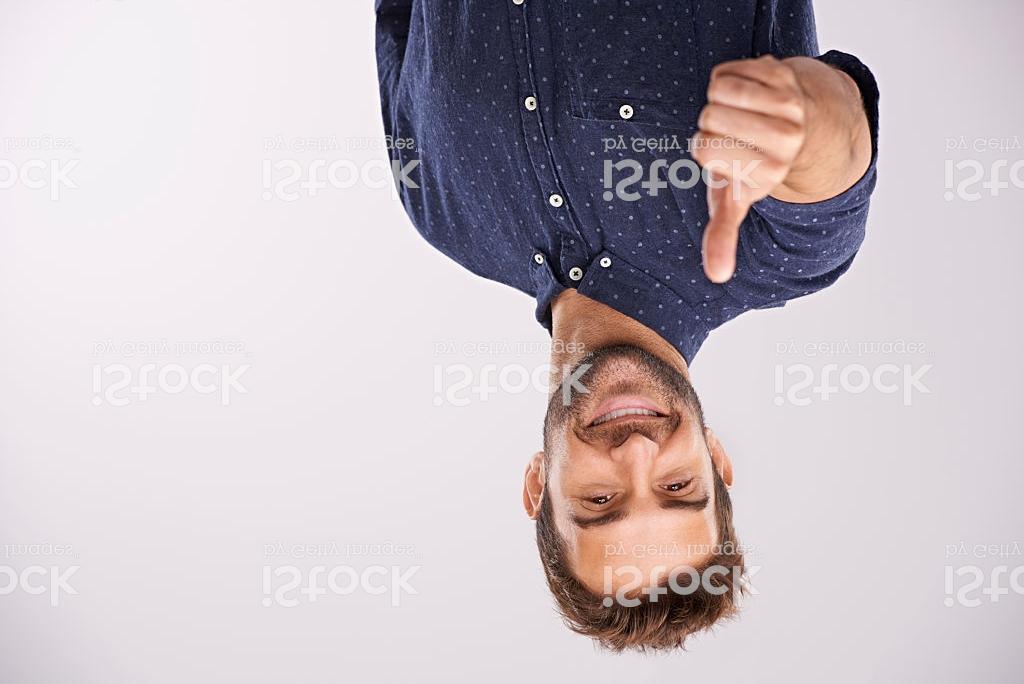thumbsdown: (690, 53, 808, 285)
